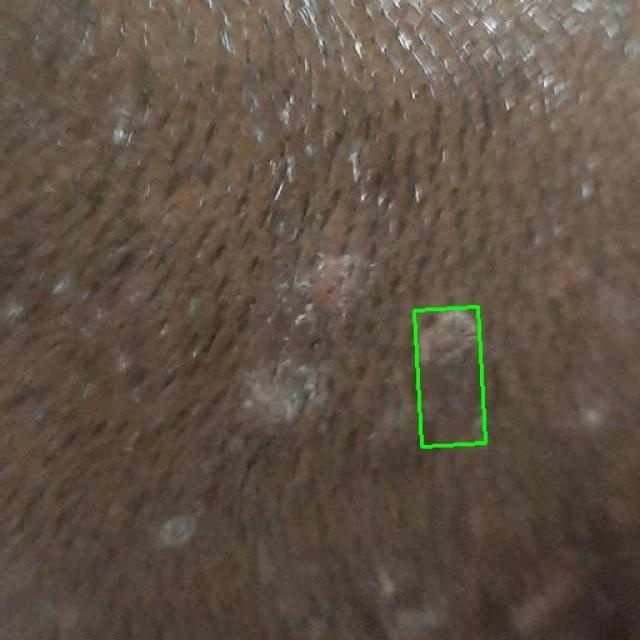Seborrheic Dermatitis: (415, 307, 485, 447)
